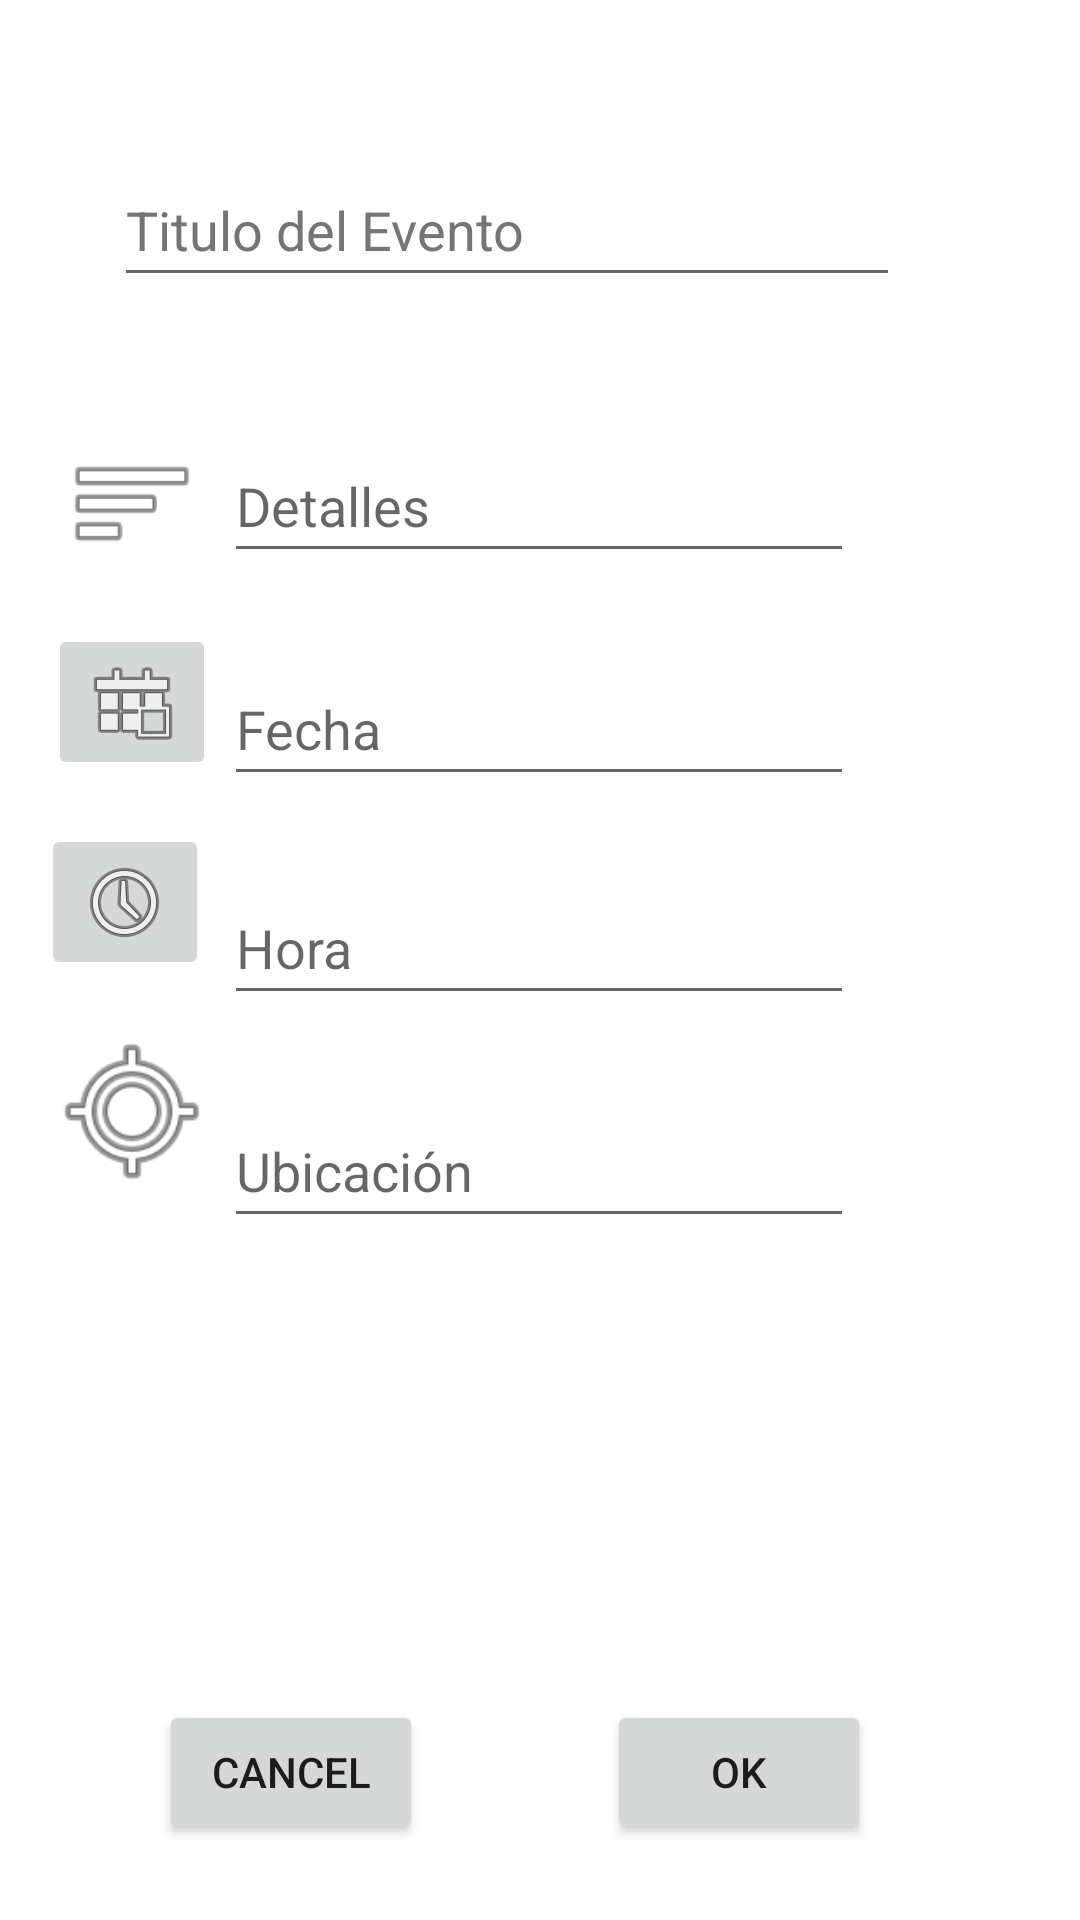

Icons on this 1080x1920 Android screen, each with the point to tap as [x,y]:
mylocation: [132,1111]
recent history: [125,902]
sort by size: [132,504]
today: [132,702]
